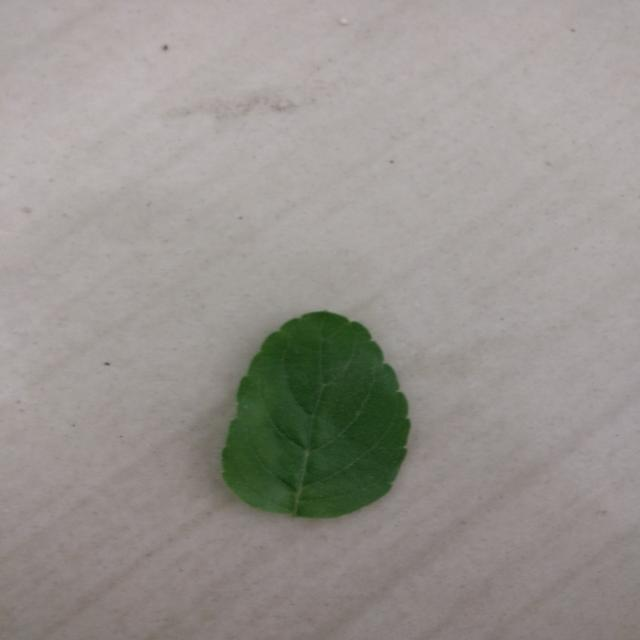tulsi: (222, 311, 410, 518)
